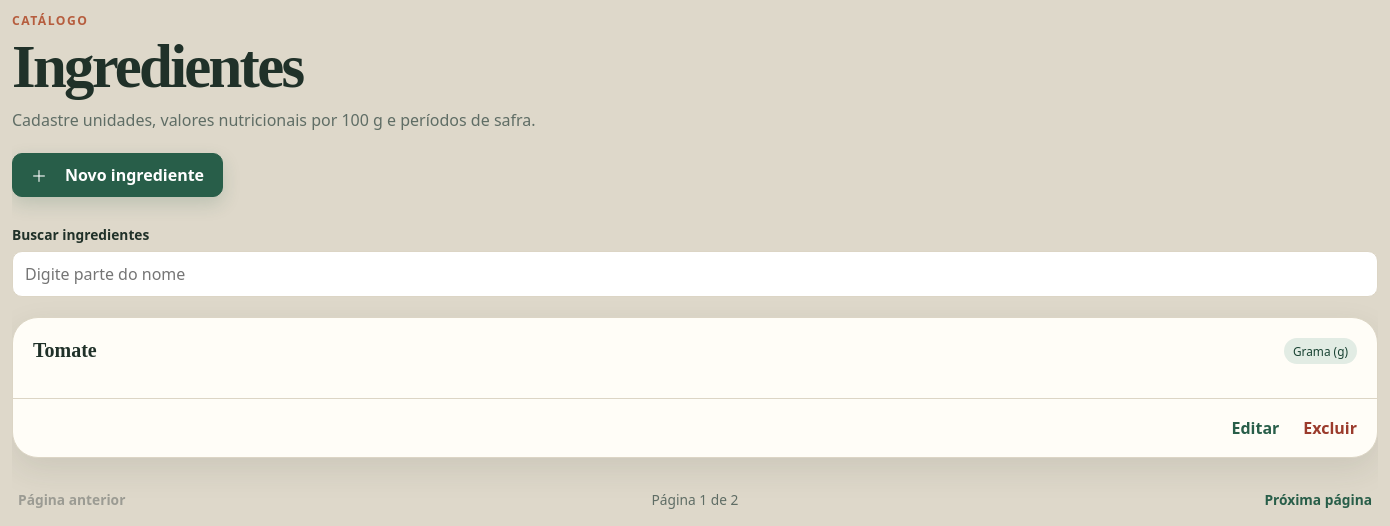
Scenario: IngredientsPage › distinguishes an empty search from an empty catalog
Check: the heading "Tomate" is shown, box top-left (33, 338), bottom-right (97, 362)
In the search field labelled "Buscar ingredientes": (695, 274) top-left (12, 251), bottom-right (1378, 297), type "Inexistente"
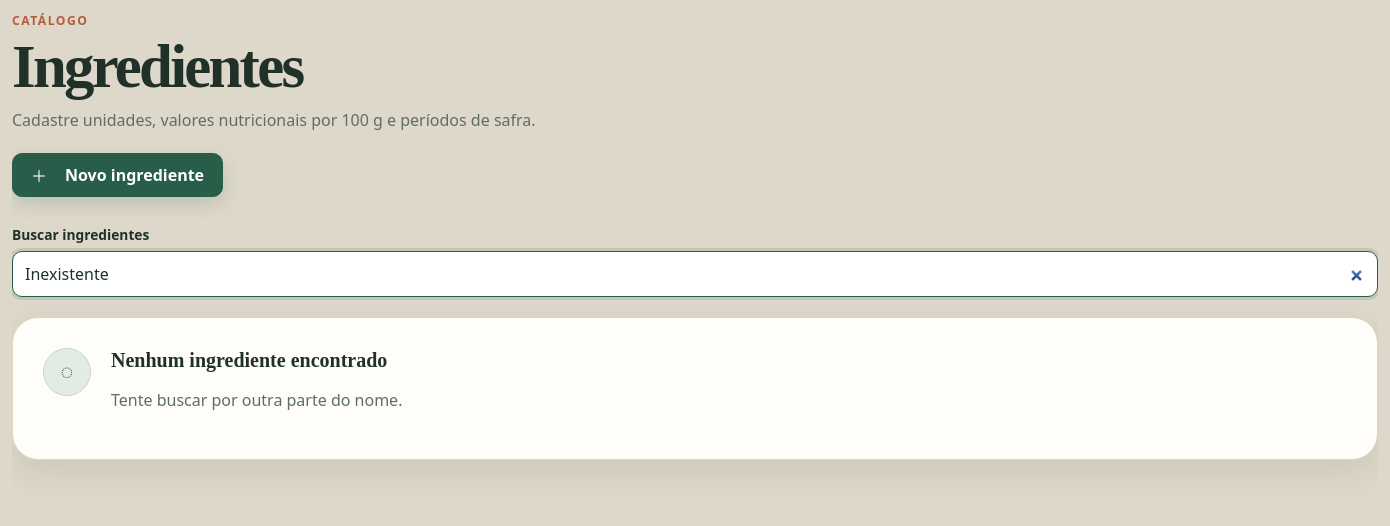
Check: the heading "Nenhum ingrediente encontrado" is shown, box top-left (111, 349), bottom-right (387, 371)
